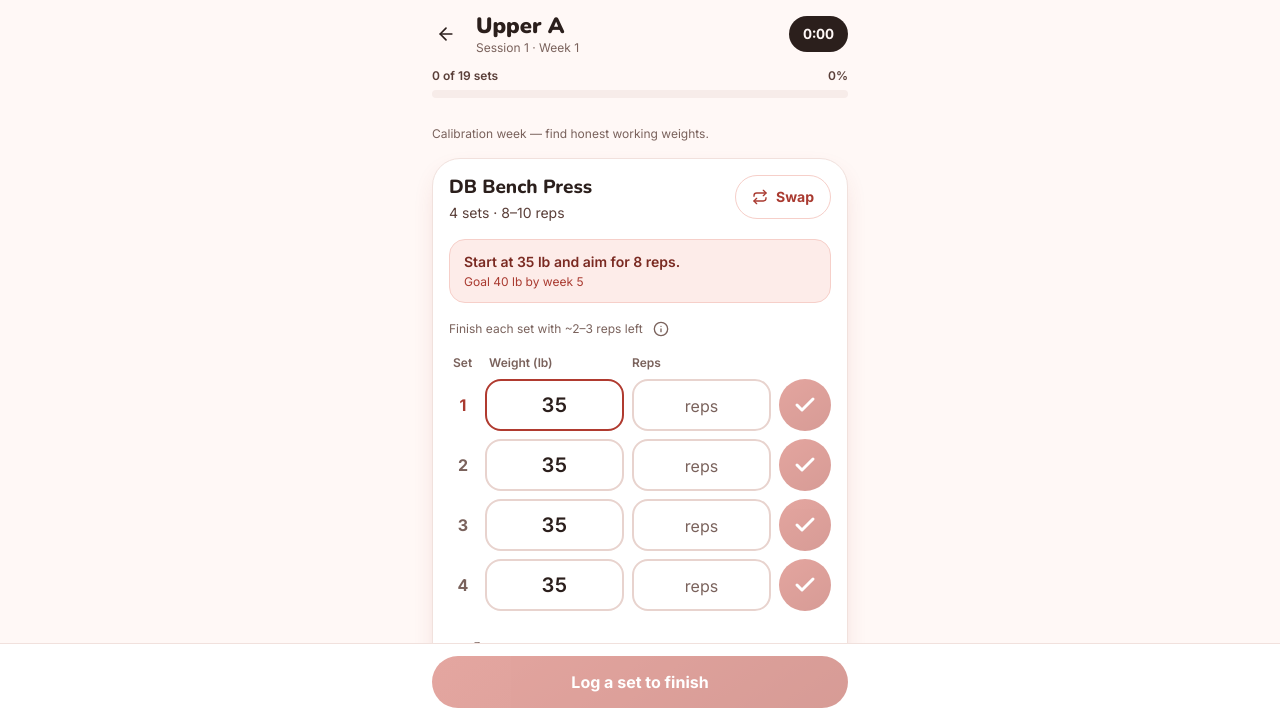
Test: WorkoutPage › swaps straight away when nothing is typed
The image size is (1280, 720).
Expected: the button named "Log set 1" is shown, [779, 379, 831, 431]
Click the button "Swap" at (783, 197), box [735, 175, 831, 219]
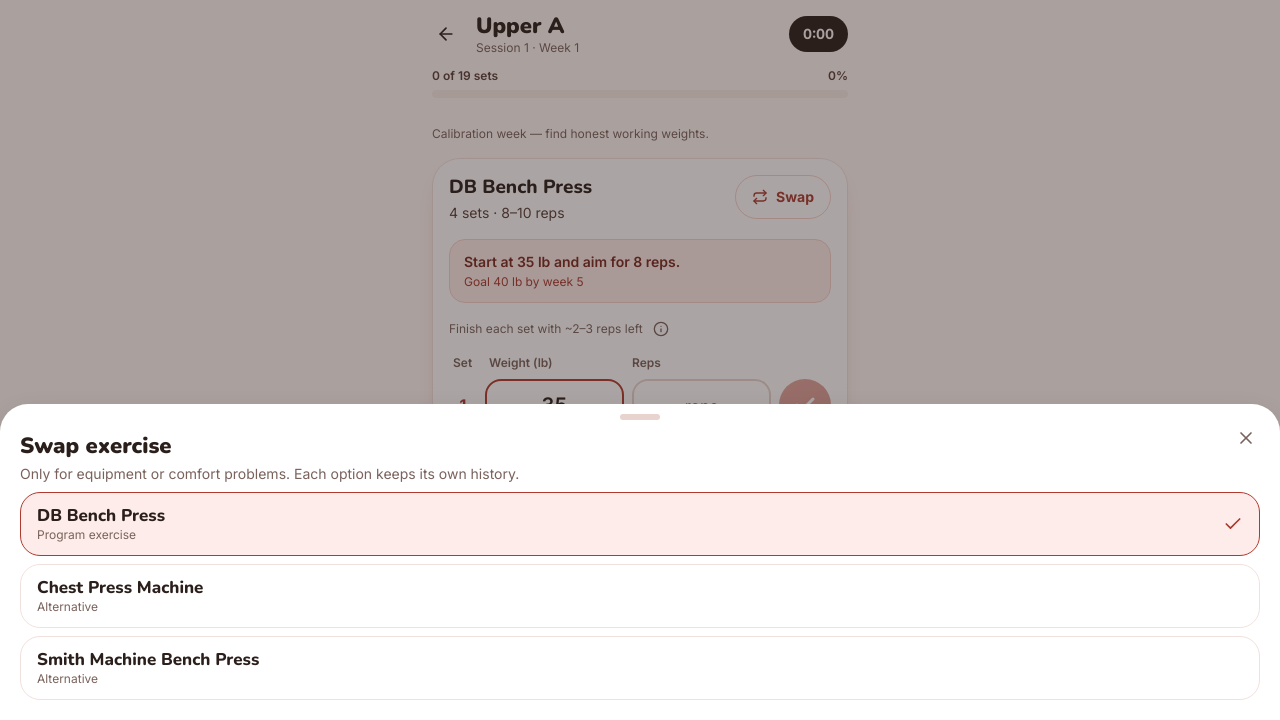
Click the button "Smith Machine Bench Press Alternative" at (148, 660), box [20, 636, 1260, 700]
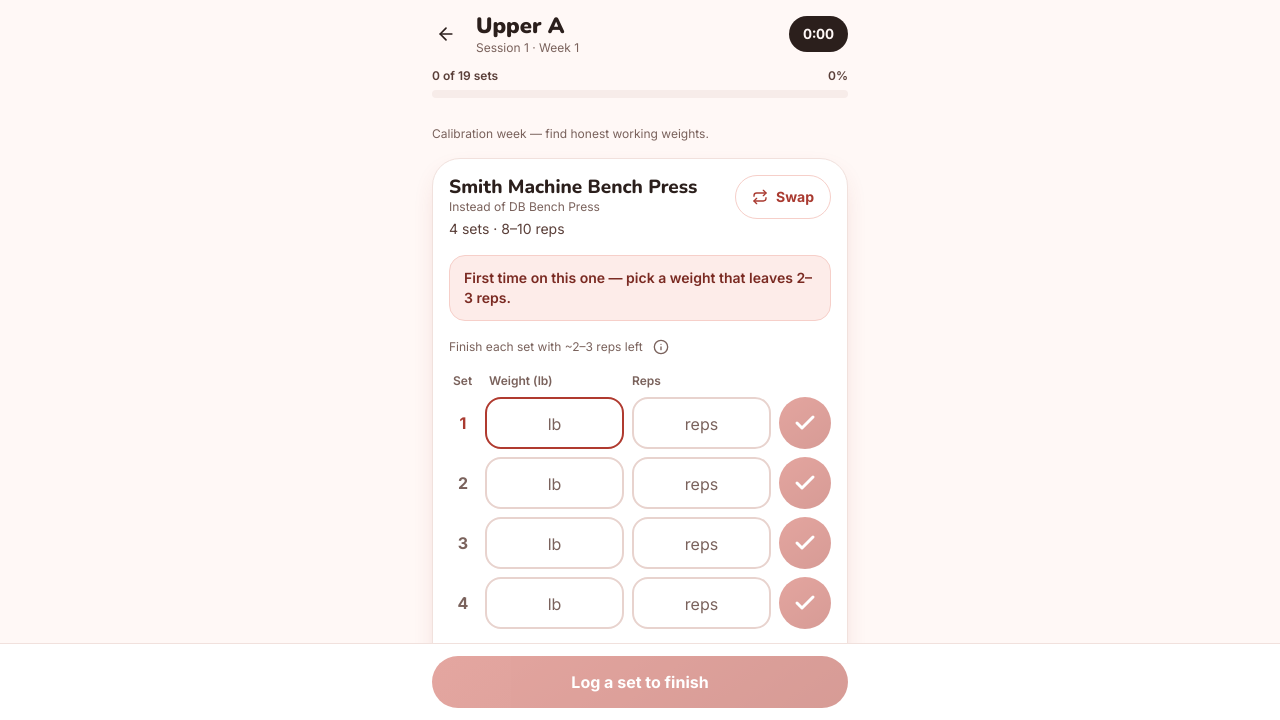
Expected: the dialog is gone
Expected: the heading "Smith Machine Bench Press" is shown, [449, 175, 698, 199]
